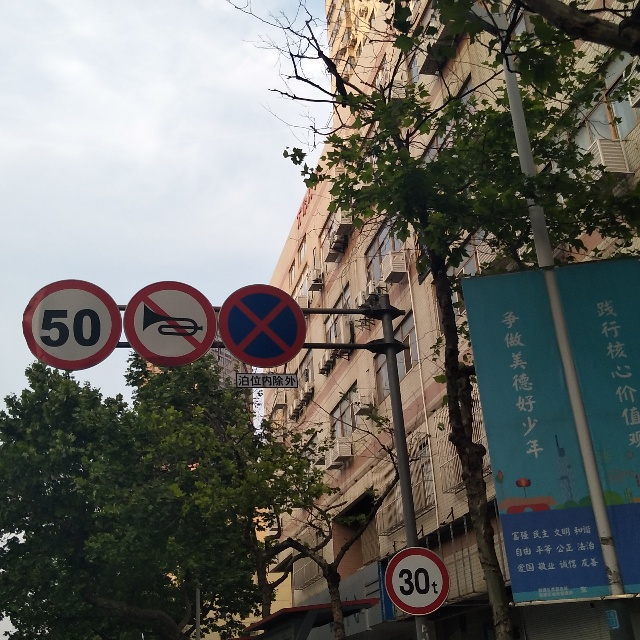nohonk: (121, 275, 218, 376)
stop: (224, 282, 306, 373)
